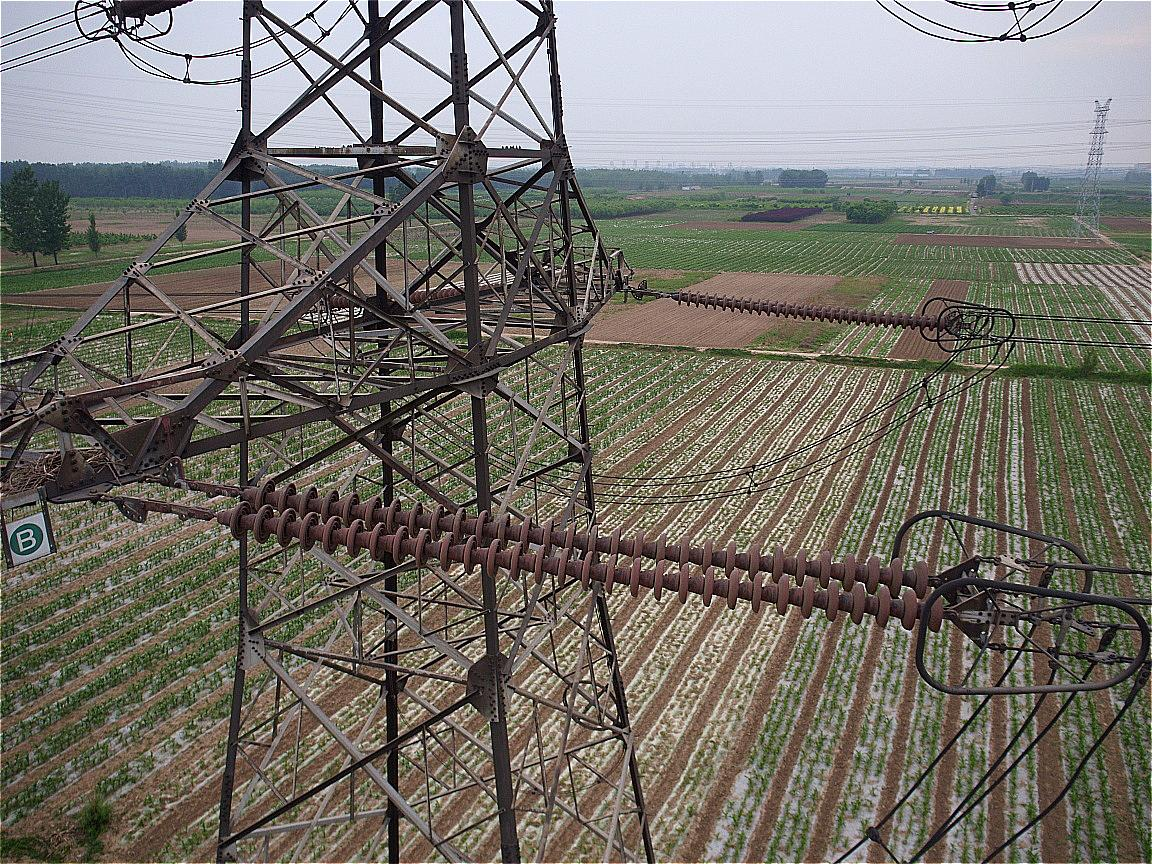insultor1: (232, 481, 945, 631), (676, 285, 952, 333)
